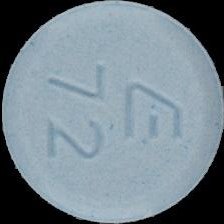0179-1434: (0, 0, 224, 224)
